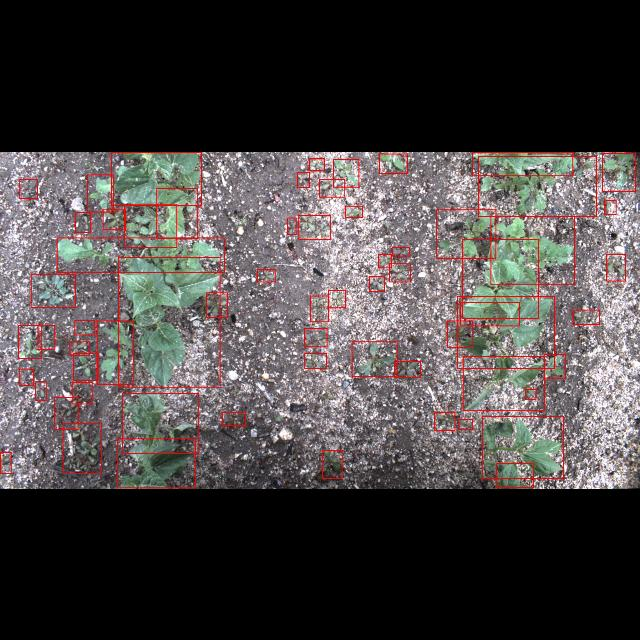crop: (118, 257, 220, 387), (458, 296, 554, 368), (462, 238, 538, 318), (482, 416, 564, 478), (110, 152, 202, 204), (122, 393, 198, 453), (464, 356, 544, 410), (117, 438, 195, 488), (472, 151, 574, 175), (156, 187, 198, 237), (496, 463, 534, 487)
weed: (478, 155, 596, 215), (57, 236, 225, 272), (491, 215, 575, 283), (436, 208, 496, 258), (97, 320, 133, 384), (125, 204, 177, 246), (63, 423, 101, 473), (352, 342, 396, 376), (460, 302, 520, 326), (31, 274, 75, 306), (602, 152, 636, 190), (88, 173, 114, 210), (18, 324, 42, 358), (54, 397, 78, 429), (298, 215, 329, 239), (74, 352, 98, 380), (334, 158, 358, 186), (448, 320, 472, 346), (322, 450, 342, 478), (379, 153, 407, 173), (606, 253, 626, 280), (206, 292, 228, 316), (544, 354, 566, 378), (102, 209, 126, 229), (310, 295, 328, 321), (304, 328, 328, 347), (320, 178, 344, 196), (72, 382, 92, 403), (394, 361, 420, 377), (37, 325, 54, 349), (435, 412, 455, 431), (573, 310, 599, 324), (19, 178, 37, 198), (390, 263, 410, 281), (304, 352, 326, 368), (328, 289, 346, 307), (222, 412, 245, 426), (76, 212, 90, 232), (69, 341, 89, 355), (75, 320, 95, 334), (19, 368, 33, 386), (0, 452, 12, 472), (257, 269, 275, 281), (370, 276, 384, 290), (296, 172, 310, 186), (36, 382, 46, 401), (346, 206, 362, 217), (378, 254, 392, 266), (310, 158, 324, 170), (604, 199, 616, 213), (392, 247, 410, 256), (459, 419, 473, 429), (288, 217, 296, 233), (526, 389, 536, 399)
